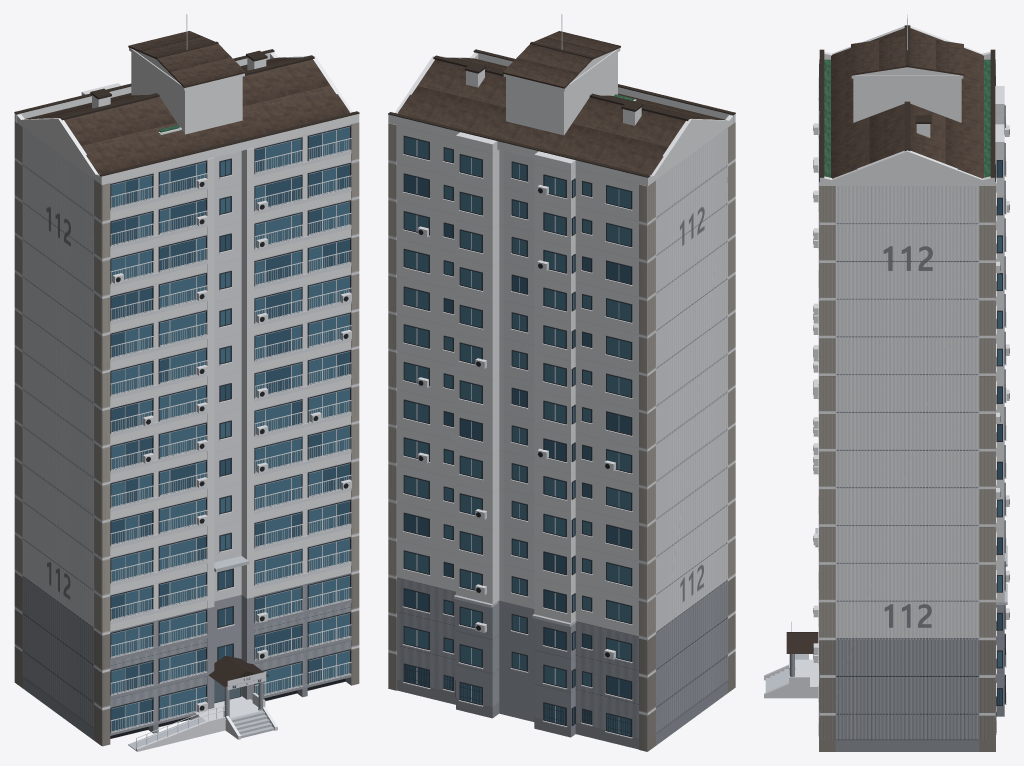
The model's file is place_행당대림112.glb.
The picture shows the model from 3 angles, left to right: view 1: azimuth 30°, elevation 25°; view 2: azimuth 150°, elevation 25°; view 3: azimuth 270°, elevation 25°; orthographic projection.
Parts seen in each view (by area): view 1: EndWall_NNW_112, Merged_Window_Glass_Main, Merged_Balcony_SilverRails, Merged_Window_Glass_Alt, Wing_Unit1_Upper4to15F, Merged_Window_OuterFrames, GableRoof_Slope_Front, Wing_Unit2_Upper4to15F, Merged_Window_InnerSashes, Building_Architecture, Central_Core_Upper, Front_Spandrel_Bands_Upper (+16 smaller); view 2: EndWall_NNW_112, Merged_Window_Glass_Main, Wing_Unit1_Upper4to15F, Wing_Unit2_Upper4to15F, Merged_Window_OuterFrames, Rear_LBent_Unit2_Upper, Rear_LBent_Unit1_Upper, GableRoof_Slope_Rear, Central_Core_Upper, Central_Elevator_Penthouse, Merged_Window_Glass_Alt, Merged_Window_InnerSashes (+18 smaller); view 3: EndWall_SSE_112, Central_Elevator_Penthouse, GableRoof_Slope_Front, GableRoof_Slope_Rear, EndWall_GablePeak_SSE, Front_112_Gable_Entrance_Porch, Rear_LBent_Unit2_Upper, Rooftop_And_Penthouse, Merged_Window_OuterFrames, Merged_AC_Unit_Bodies, Roof_GreenGutter_Front, Roof_GreenGutter_Rear (+8 smaller).
Boxes of the visible parts, x1,y1,x2,y2 form: EndWall_NNW_112: [14, 121, 101, 745]; Merged_Window_Glass_Main: [111, 127, 349, 727]; Merged_Balcony_SilverRails: [110, 138, 351, 733]; Merged_Window_Glass_Alt: [111, 134, 349, 731]; Wing_Unit1_Upper4to15F: [19, 124, 206, 633]; Merged_Window_OuterFrames: [110, 125, 351, 732]; GableRoof_Slope_Front: [64, 59, 349, 173]; Wing_Unit2_Upper4to15F: [254, 124, 350, 596]; Merged_Window_InnerSashes: [111, 127, 350, 731]; Building_Architecture: [81, 83, 345, 738]; Central_Core_Upper: [214, 151, 241, 601]; Front_Spandrel_Bands_Upper: [110, 151, 351, 624]; EndWall_NNW_112: [648, 122, 735, 751]; Merged_Window_Glass_Main: [404, 137, 630, 735]; Wing_Unit1_Upper4to15F: [575, 125, 730, 638]; Wing_Unit2_Upper4to15F: [397, 125, 499, 600]; Merged_Window_OuterFrames: [403, 135, 632, 737]; Rear_LBent_Unit2_Upper: [456, 144, 497, 603]; Rear_LBent_Unit1_Upper: [534, 163, 575, 622]; GableRoof_Slope_Rear: [398, 59, 685, 174]; Central_Core_Upper: [503, 151, 534, 608]; Central_Elevator_Penthouse: [503, 14, 636, 135]; Merged_Window_Glass_Alt: [404, 174, 630, 723]; Merged_Window_InnerSashes: [402, 140, 632, 738]; EndWall_SSE_112: [820, 186, 994, 751]; Central_Elevator_Penthouse: [851, 14, 963, 122]; GableRoof_Slope_Front: [831, 28, 904, 178]; GableRoof_Slope_Rear: [910, 28, 983, 178]; EndWall_GablePeak_SSE: [824, 150, 990, 185]; Front_112_Gable_Entrance_Porch: [764, 632, 818, 698]; Rear_LBent_Unit2_Upper: [995, 150, 1004, 602]; Rooftop_And_Penthouse: [819, 25, 995, 177]; Merged_Window_OuterFrames: [819, 64, 1005, 705]; Merged_AC_Unit_Bodies: [813, 123, 1009, 662]; Roof_GreenGutter_Front: [824, 59, 830, 177]; Roof_GreenGutter_Rear: [984, 59, 990, 177].
Bounding box in the file's own units: 20.58 × 50.95 × 16.84.
Materials: 30 (10 with a texture image).
